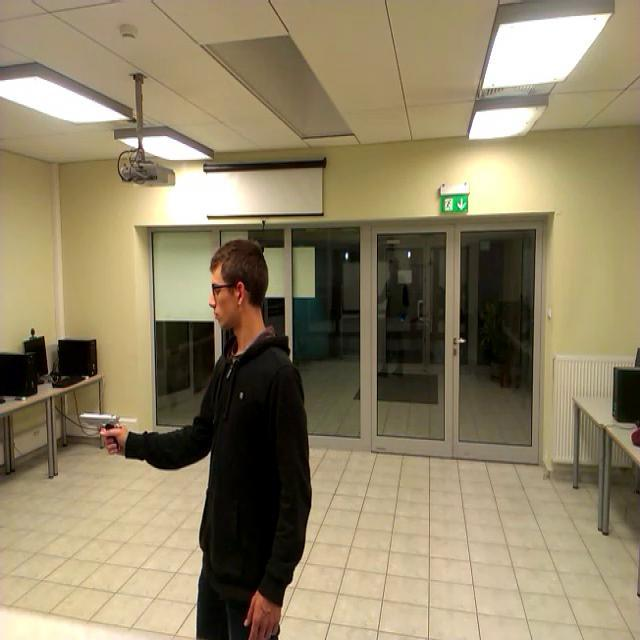Gun: (79, 412, 119, 449)
